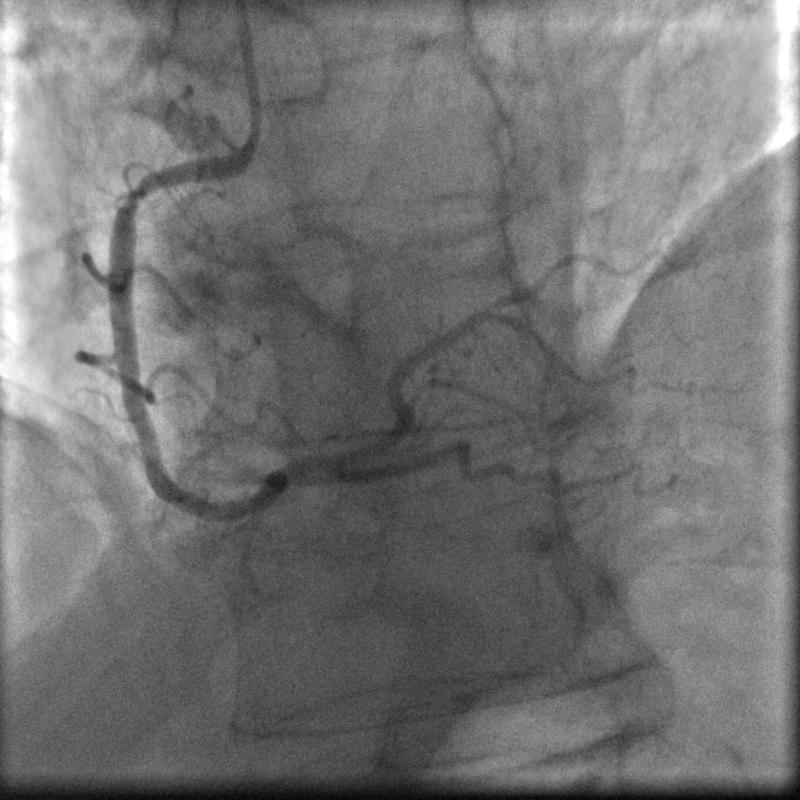Stenosis: (116, 173, 157, 212)
